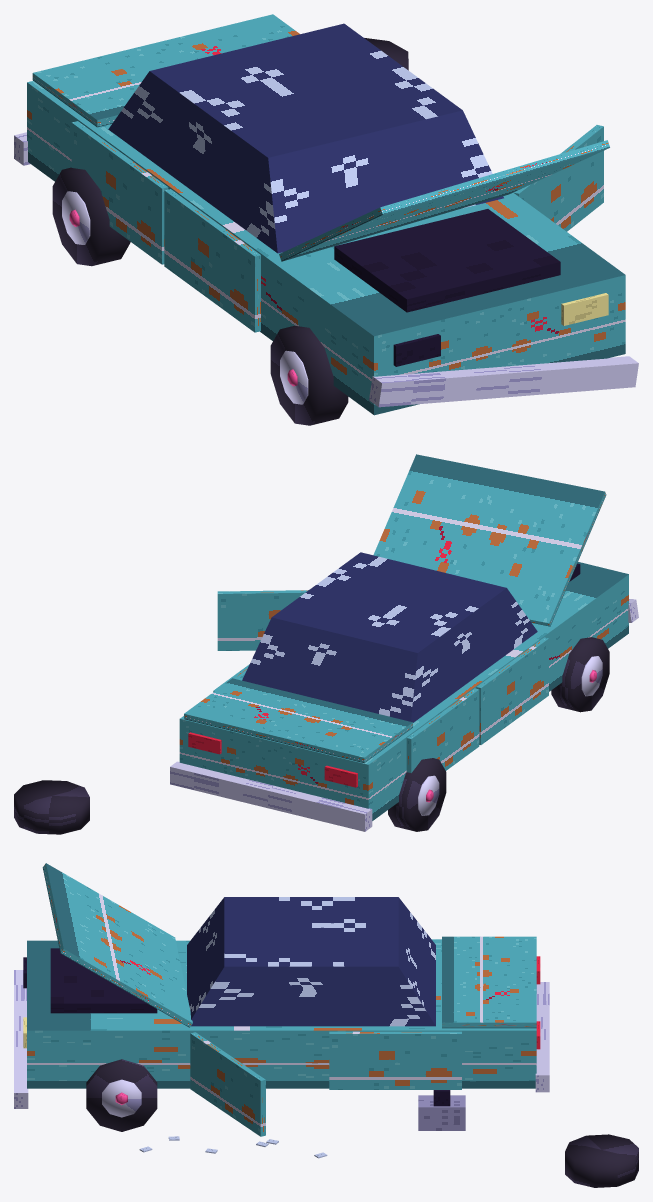
The model's file is Wrecked Sedan.fbx.
3 renders of one model, top to bottom at view 1: azimuth 30°, elevation 25°; view 2: azimuth 150°, elevation 25°; view 3: azimuth 270°, elevation 25°, orthographic. The views are drawn at different scales.
Visible parts, largest first — view 1: Wrecked Sedan cabin, Wrecked Sedan hull, Wrecked Sedan engine, Wrecked Sedan trunk lid.001, Wrecked Sedan front bumper, Wrecked Sedan door front L.001, Wrecked Sedan hood.001, Wrecked Sedan door rear L.001, Wrecked Sedan door front R.001, Wrecked Sedan wheel FL tire, Wrecked Sedan wheel RL tire, Wrecked Sedan headlight 1 (+3 smaller); view 2: Wrecked Sedan cabin, Wrecked Sedan hood.001, Wrecked Sedan hull, Wrecked Sedan trunk lid.001, Wrecked Sedan rear bumper, Wrecked Sedan door front L.001, Wrecked Sedan door rear L.001, Wrecked Sedan wheel RR tire, Wrecked Sedan door front R.001, Wrecked Sedan wheel FL tire, Wrecked Sedan wheel RL tire, Wrecked Sedan wheel FL hub (+1 smaller); view 3: Wrecked Sedan cabin, Wrecked Sedan hull, Wrecked Sedan hood.001, Wrecked Sedan trunk lid.001, Wrecked Sedan door rear R.001, Wrecked Sedan door front R.001, Wrecked Sedan engine, Wrecked Sedan wheel RR tire, Wrecked Sedan wheel FR tire, Wrecked Sedan front bumper, Wrecked Sedan cinder block, Wrecked Sedan rear bumper (+1 smaller).
Boxes of the visible parts, x1,y1,x2,y2 form: Wrecked Sedan cabin: (108, 23, 503, 253); Wrecked Sedan hull: (27, 81, 625, 415); Wrecked Sedan engine: (334, 209, 560, 312); Wrecked Sedan trunk lid.001: (32, 14, 299, 127); Wrecked Sedan front bumper: (369, 356, 638, 407); Wrecked Sedan door front L.001: (164, 189, 260, 332); Wrecked Sedan hood.001: (279, 140, 609, 261); Wrecked Sedan door rear L.001: (71, 121, 168, 264); Wrecked Sedan door front R.001: (513, 125, 603, 231); Wrecked Sedan wheel FL tire: (270, 325, 348, 425); Wrecked Sedan wheel RL tire: (52, 167, 130, 266); Wrecked Sedan headlight 1: (561, 293, 608, 325); Wrecked Sedan cabin: (242, 552, 537, 722); Wrecked Sedan hood.001: (373, 454, 606, 626); Wrecked Sedan hull: (179, 562, 628, 820); Wrecked Sedan trunk lid.001: (184, 678, 412, 763); Wrecked Sedan rear bumper: (170, 761, 372, 831); Wrecked Sedan door front L.001: (476, 637, 548, 744); Wrecked Sedan door rear L.001: (406, 688, 479, 772); Wrecked Sedan wheel RR tire: (14, 780, 89, 834); Wrecked Sedan door front R.001: (217, 590, 308, 650); Wrecked Sedan wheel FL tire: (551, 637, 609, 712); Wrecked Sedan wheel RL tire: (388, 758, 446, 831); Wrecked Sedan wheel FL hub: (581, 656, 602, 696); Wrecked Sedan cabin: (187, 897, 435, 1026); Wrecked Sedan hull: (27, 940, 536, 1088); Wrecked Sedan hood.001: (42, 863, 192, 1027); Wrecked Sedan trunk lid.001: (442, 936, 536, 1028); Wrecked Sedan door rear R.001: (329, 1031, 461, 1089); Wrecked Sedan door front R.001: (190, 1032, 265, 1136); Wrecked Sedan engine: (50, 948, 157, 1013); Wrecked Sedan wheel RR tire: (565, 1134, 638, 1187); Wrecked Sedan wheel FR tire: (86, 1059, 157, 1131); Wrecked Sedan front bumper: (14, 970, 28, 1108); Wrecked Sedan cinder block: (418, 1095, 465, 1130); Wrecked Sedan rear bumper: (535, 982, 549, 1092).
Size of the model in its own units: 3.15 by 1.72 by 5.27.
Materials: 10 (10 with a texture image).
